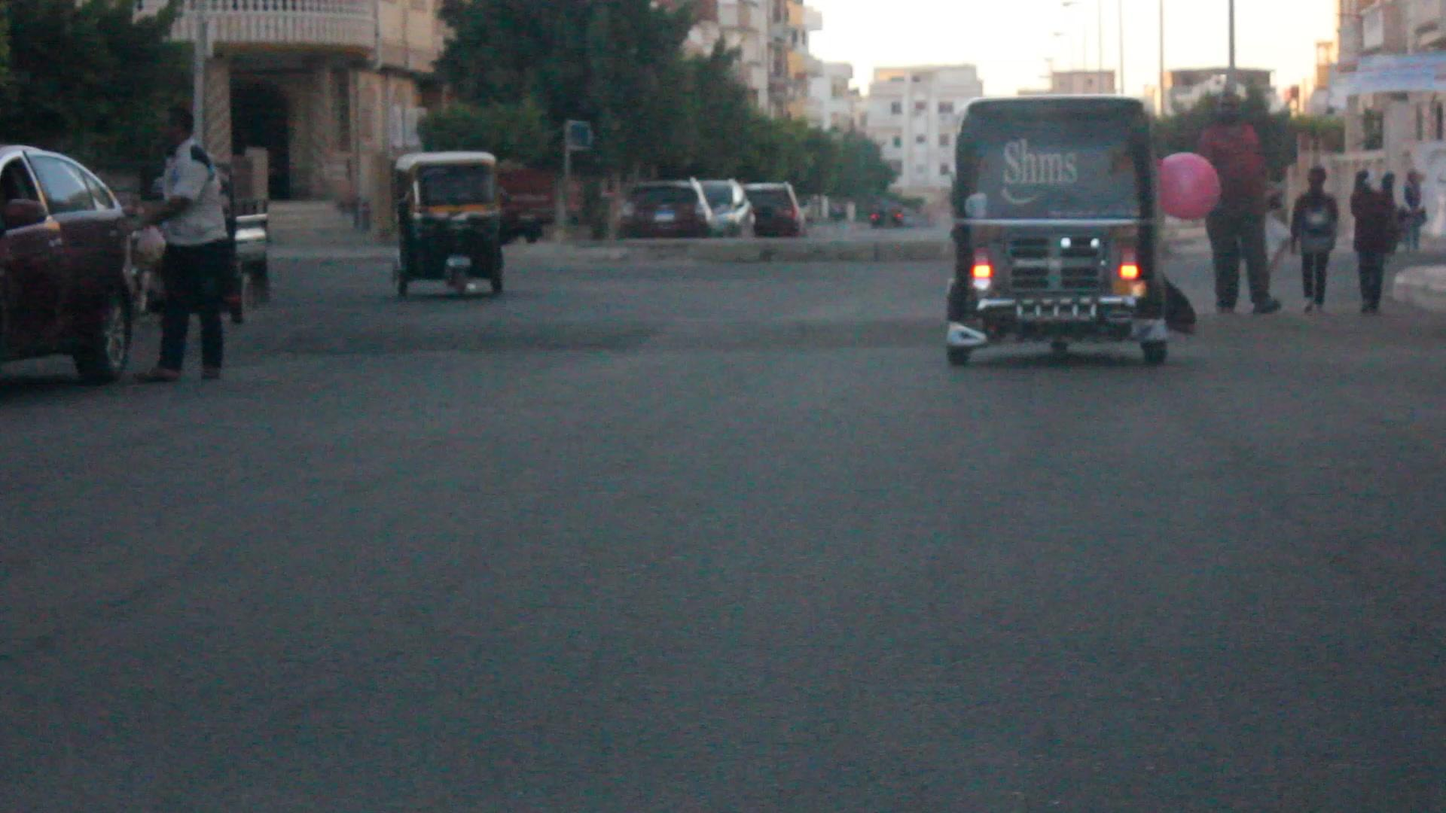Bump: (234, 299, 946, 351), (1162, 303, 1442, 348)
